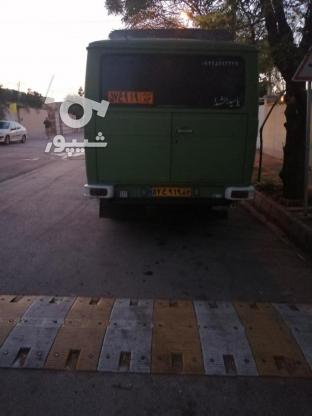car: (151, 186, 192, 195)
